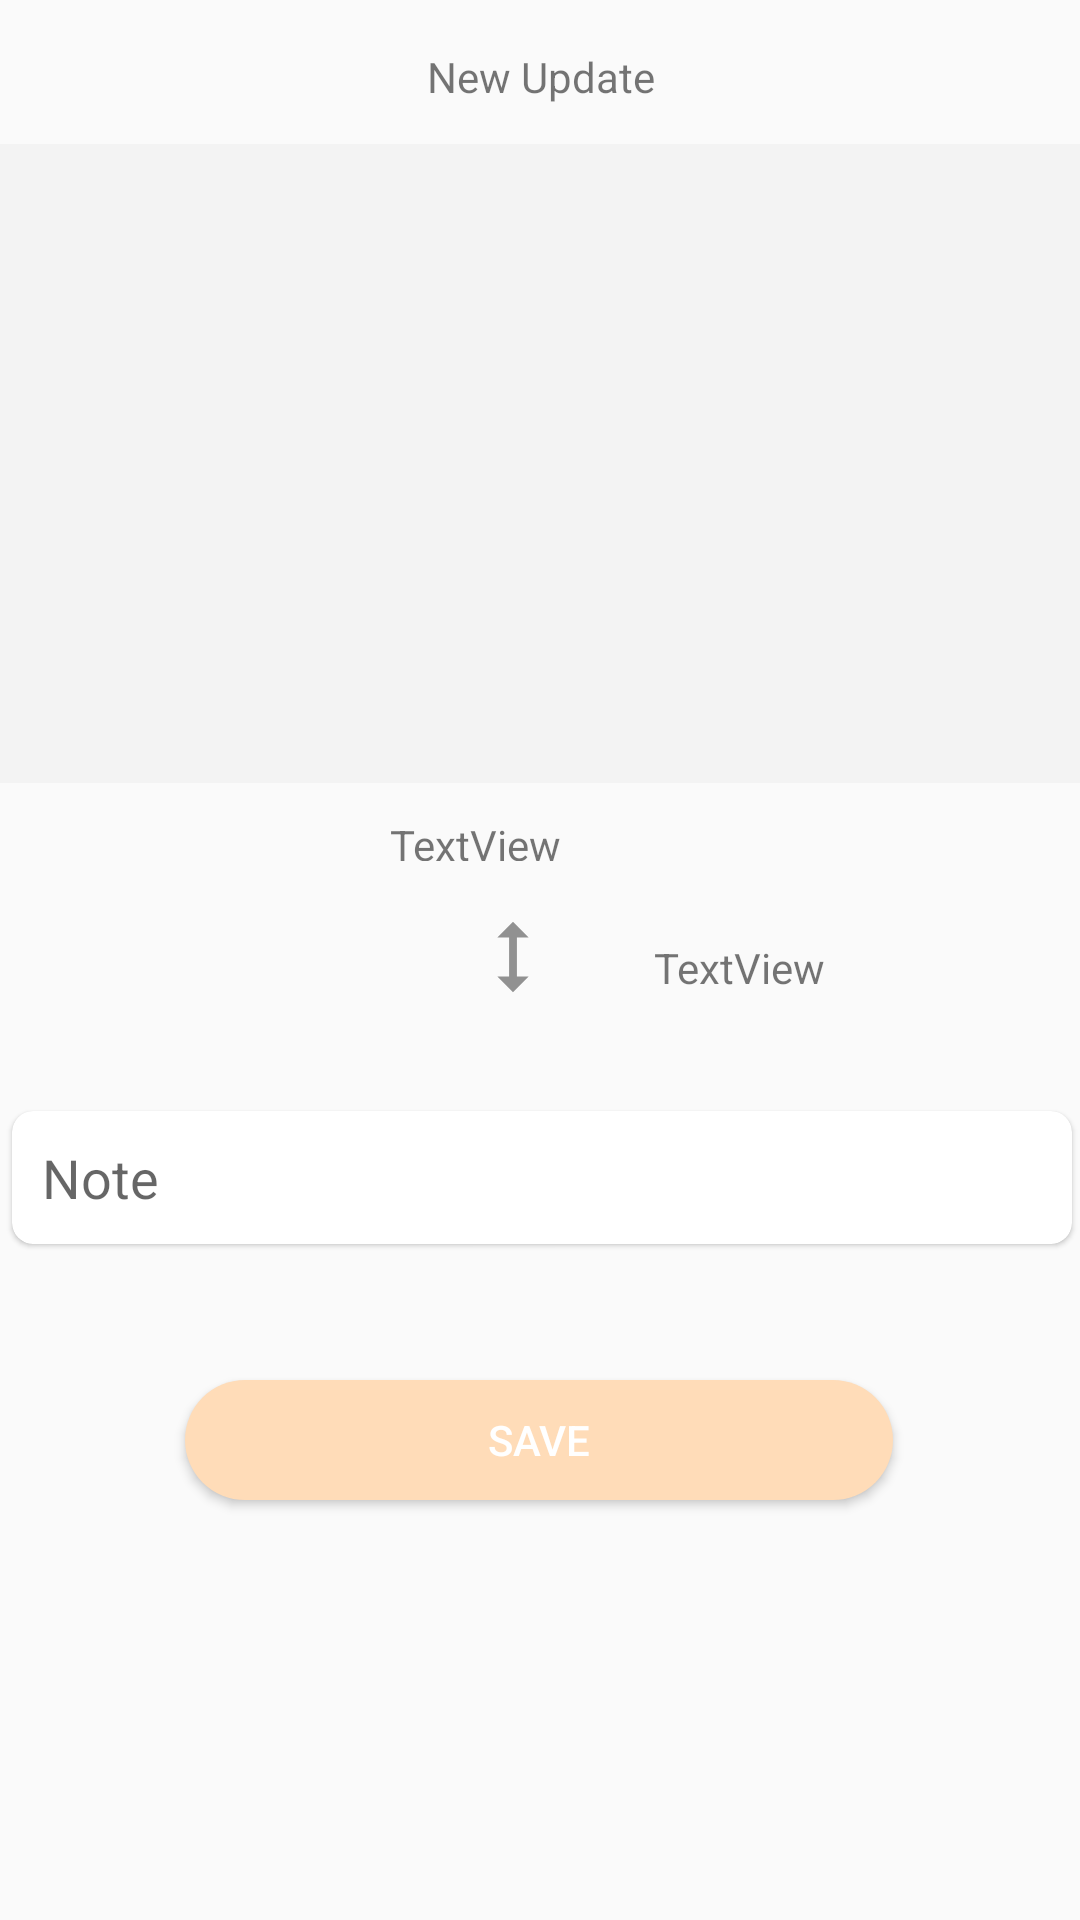

Icons on this 1080px×1920px Android screen, each with the point to tap as [x,y]:
height: [513,957]
